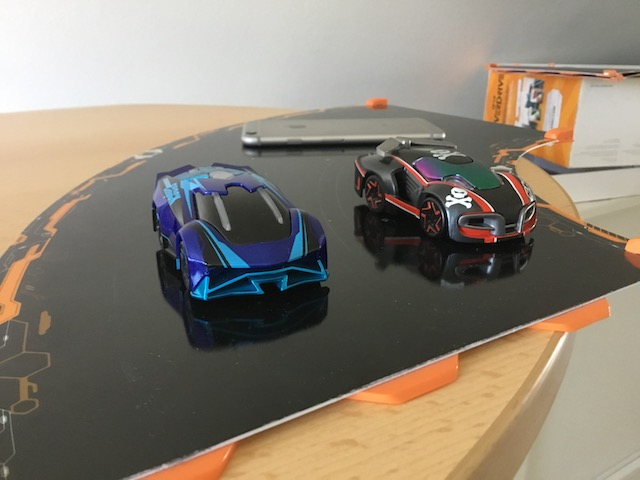car-blue: (142, 158, 332, 309)
car-red: (351, 134, 542, 248)
phone: (240, 114, 449, 149)
